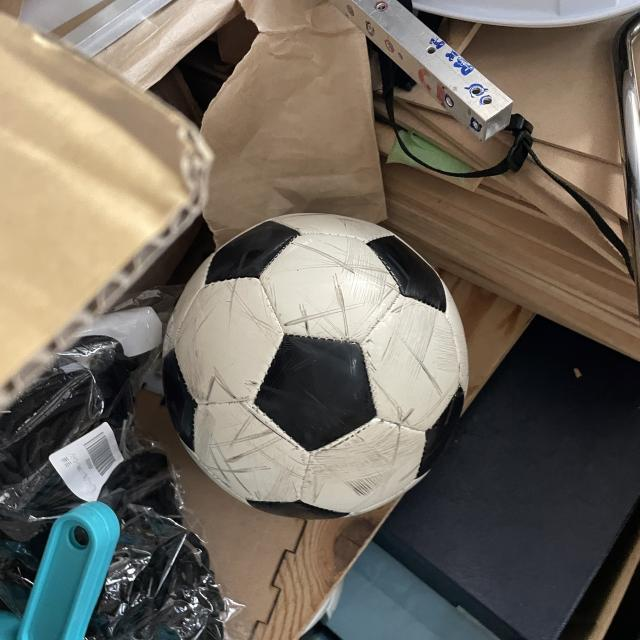ball: (159, 212, 470, 522)
